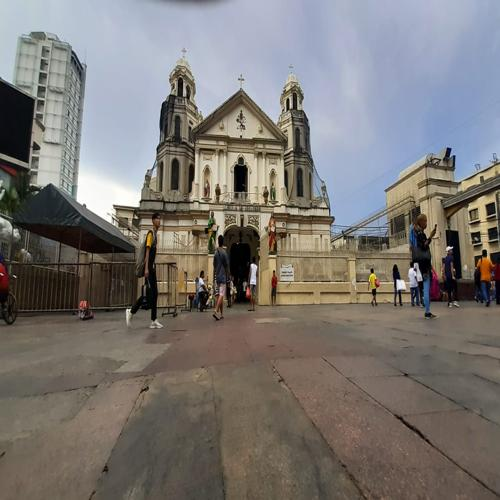Quiapo Church: (120, 28, 342, 313)
